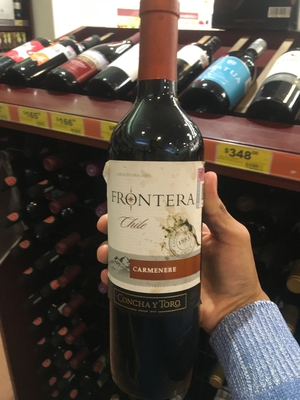frontera carmenere: (86, 12, 230, 400)
